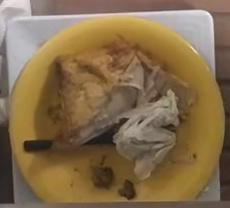chicken: (48, 37, 153, 147)
